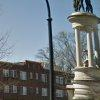Statue: (63, 2, 100, 95)
